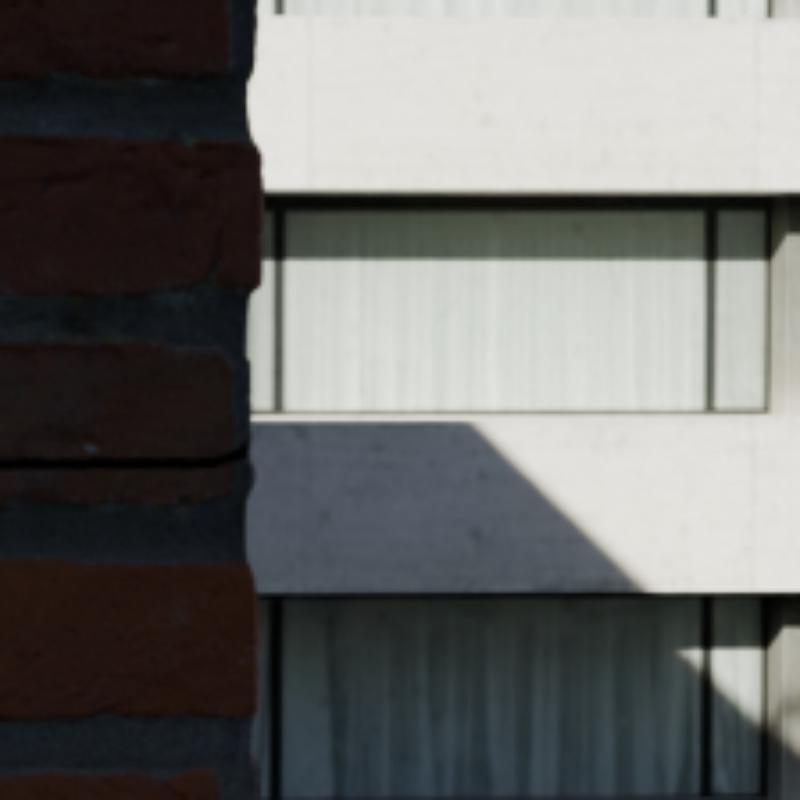crack: (0, 443, 246, 464)
